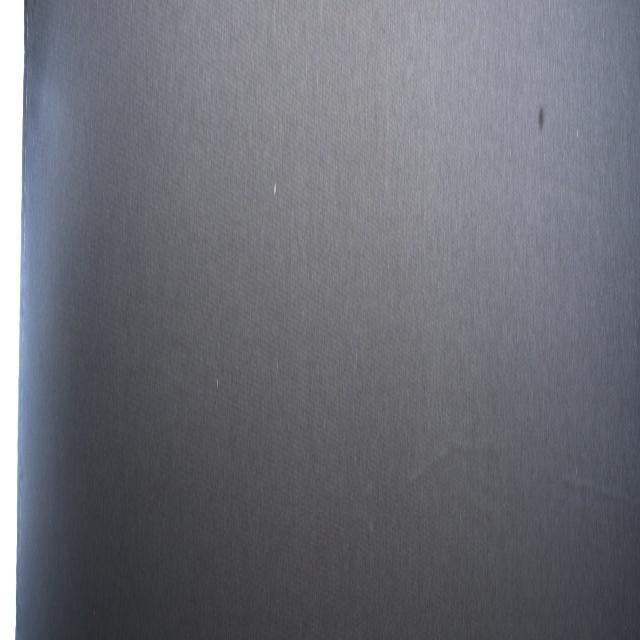crease: (407, 436, 517, 640), (560, 471, 640, 505), (151, 359, 186, 394)
whiteDefect: (272, 173, 277, 208)
